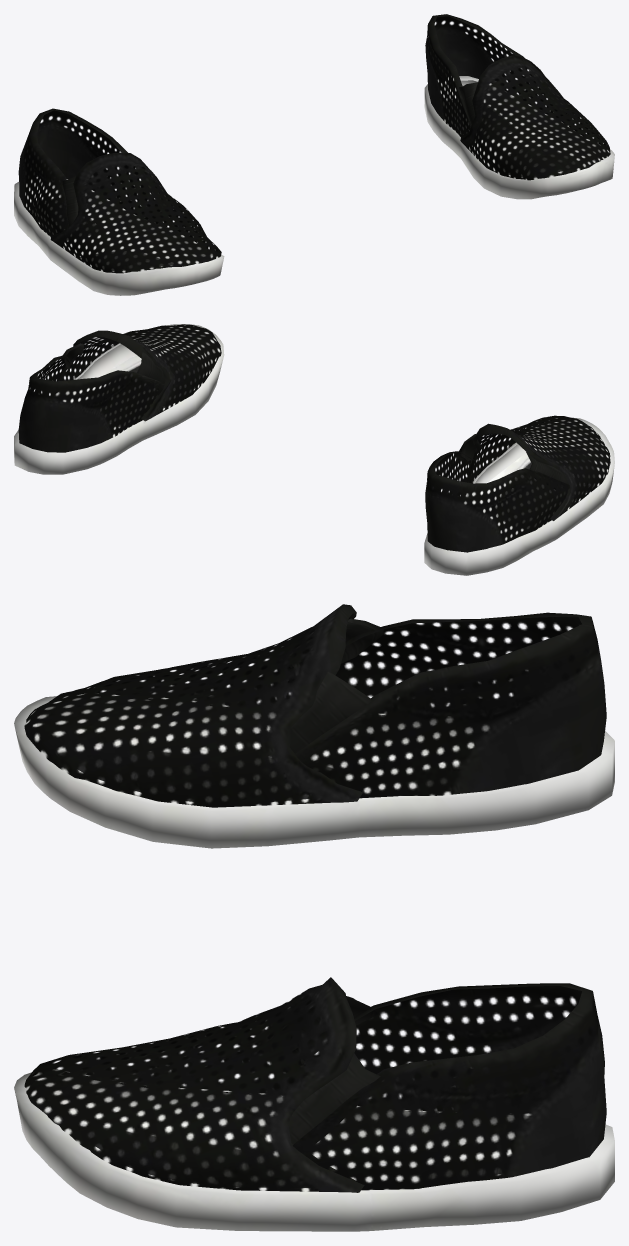
File: punkduck-comfortable-sneakers.glb
3 renders of one model, top to bottom at view 1: azimuth 30°, elevation 25°; view 2: azimuth 150°, elevation 25°; view 3: azimuth 270°, elevation 25°, orthographic. The views are drawn at different scales.
Visible parts, largest first — view 1: Human.punkduck_comfortable_sneakers; view 2: Human.punkduck_comfortable_sneakers; view 3: Human.punkduck_comfortable_sneakers.
Part boxes in pixels (<box>): Human.punkduck_comfortable_sneakers: <box>14,14,614,295</box>; Human.punkduck_comfortable_sneakers: <box>14,324,614,575</box>; Human.punkduck_comfortable_sneakers: <box>14,604,614,1231</box>.
Size of the model in its own units: 0.444 by 0.0805 by 0.2288.
1 material, 1 textured.
